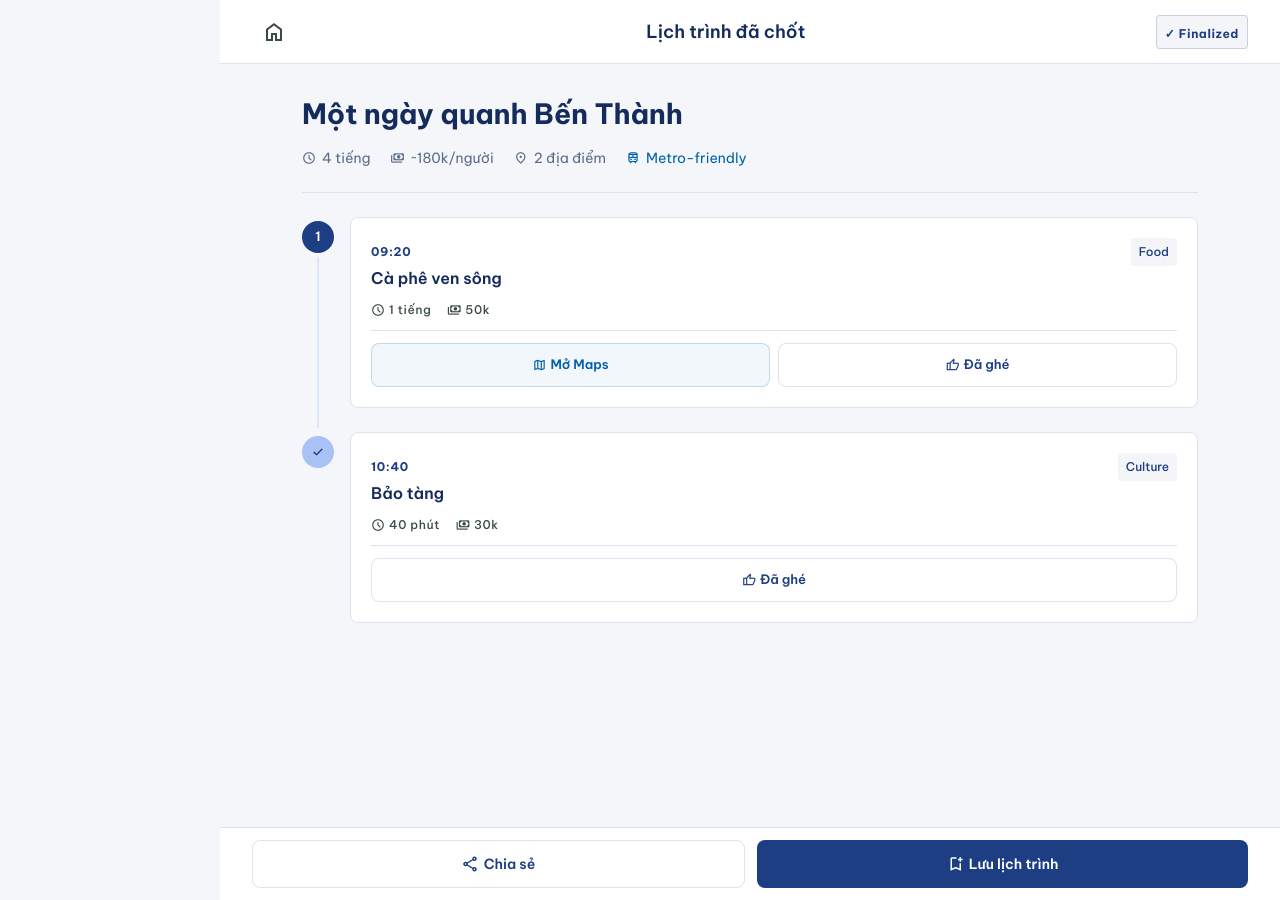
Test: USER-A5.3 Finalized save/share contracts › save passes exact currentTrip, locks duplicates and opens original success modal
Click the button "Lưu lịch trình" at (1002, 864), box [757,840,1248,888]
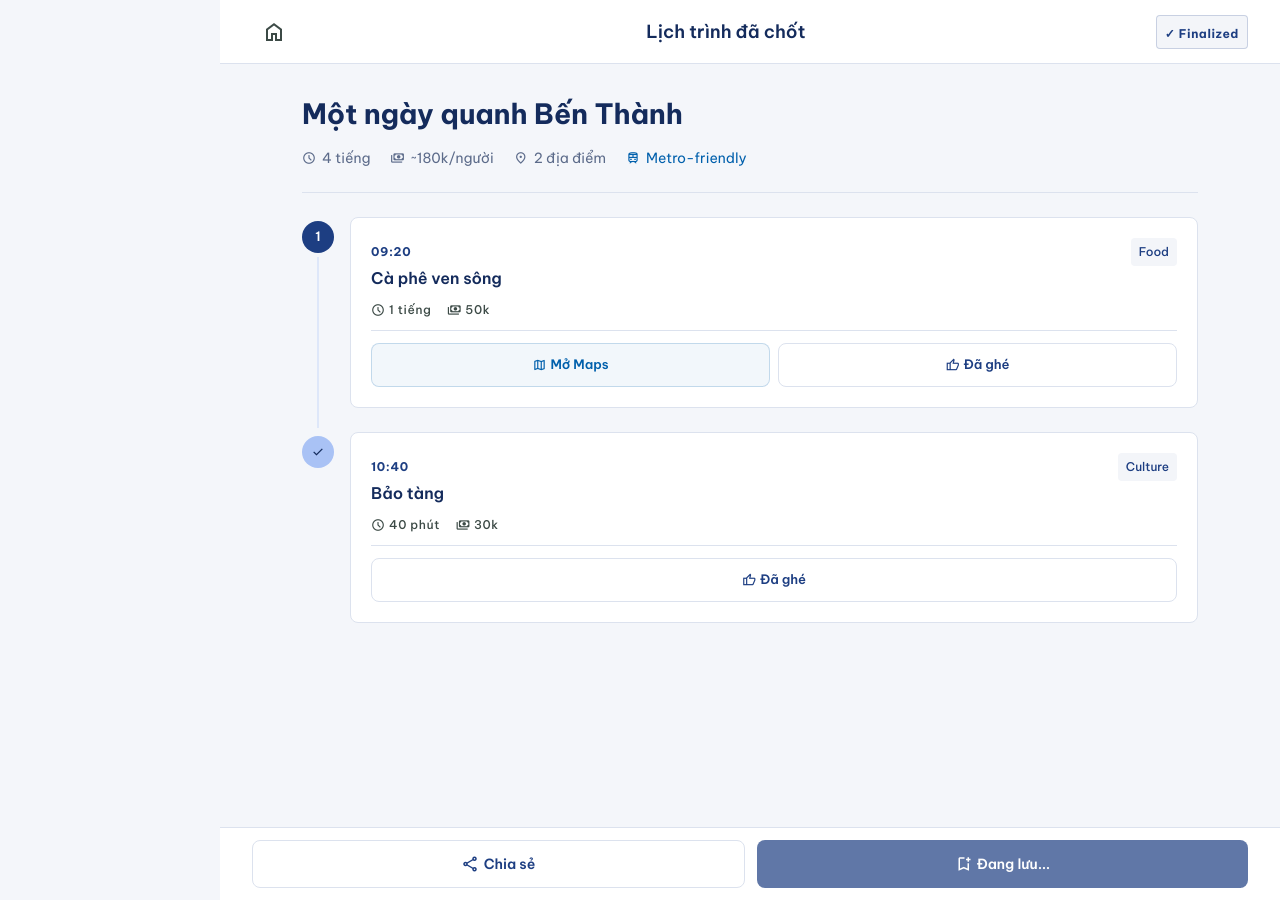
Click the button named "Lưu lịch trình" at (1002, 864), box [757,840,1248,888]
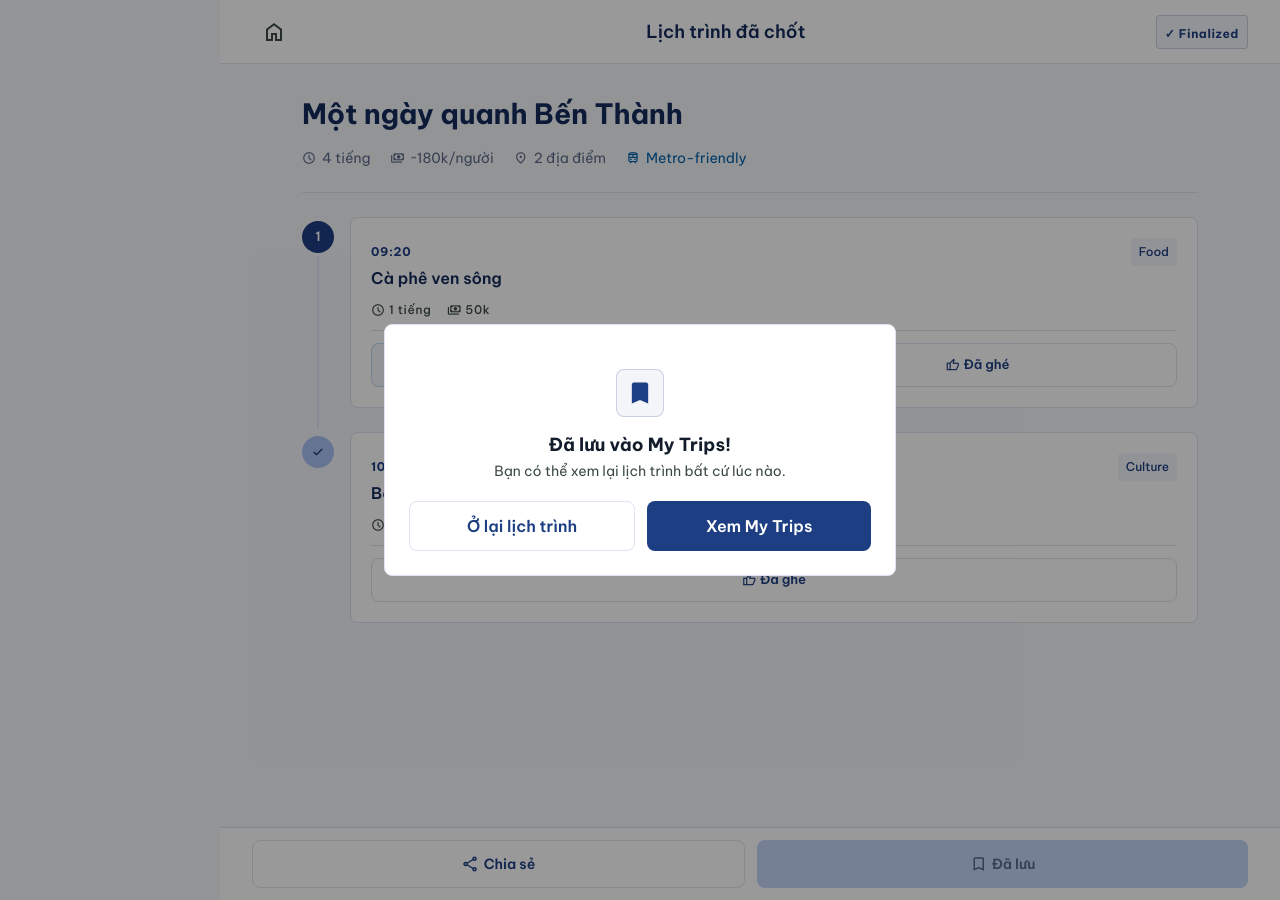
Expected: the button named "Lưu lịch trình" is disabled, [757,840,1248,888]
Expected: the button "Đã lưu" is disabled, [757,840,1248,888]
Expected: the dialog "Đã lưu vào My Trips!" is shown
Click the button "Ở lại lịch trình" at (522, 526), box [409,501,635,551]
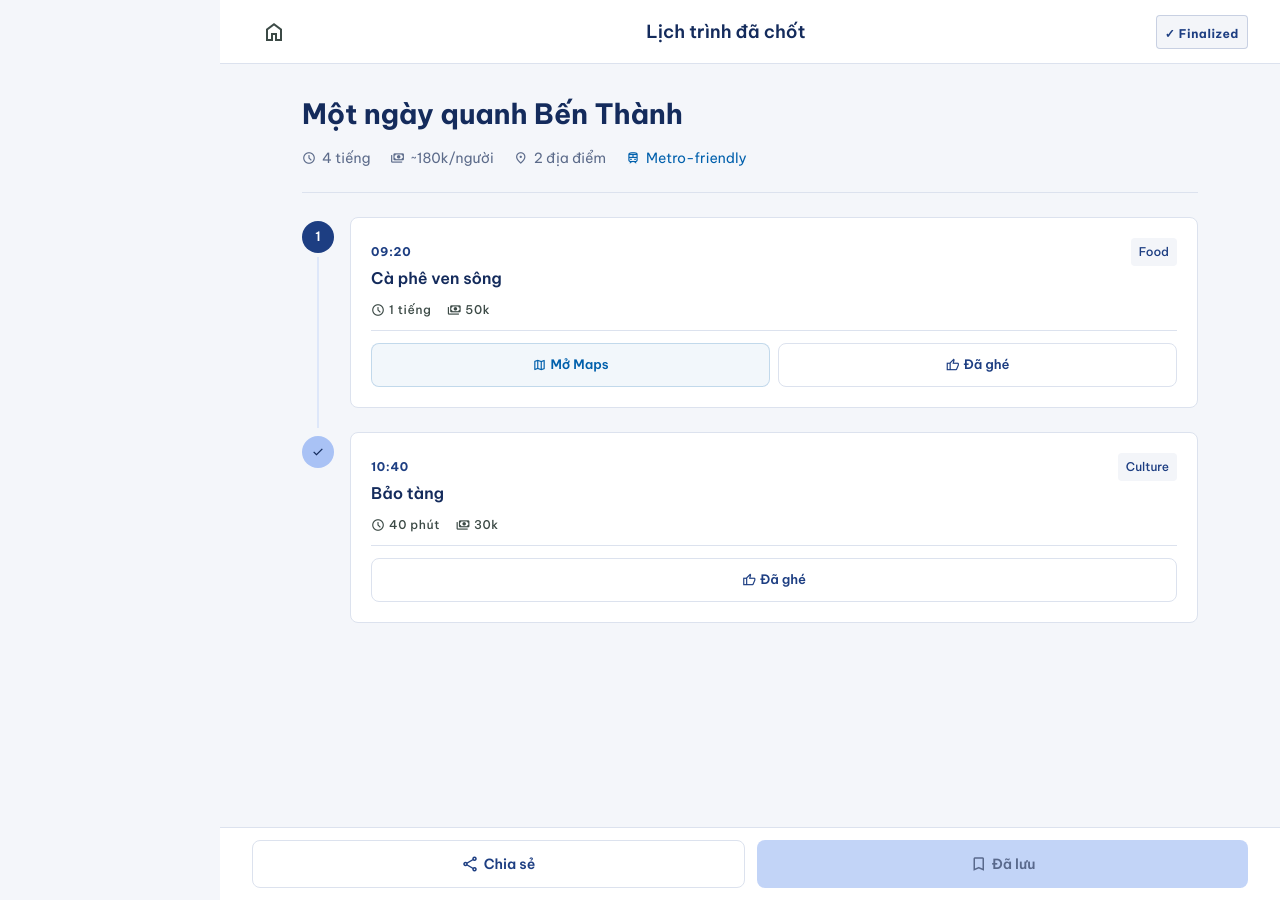
Expected: the dialog is gone
